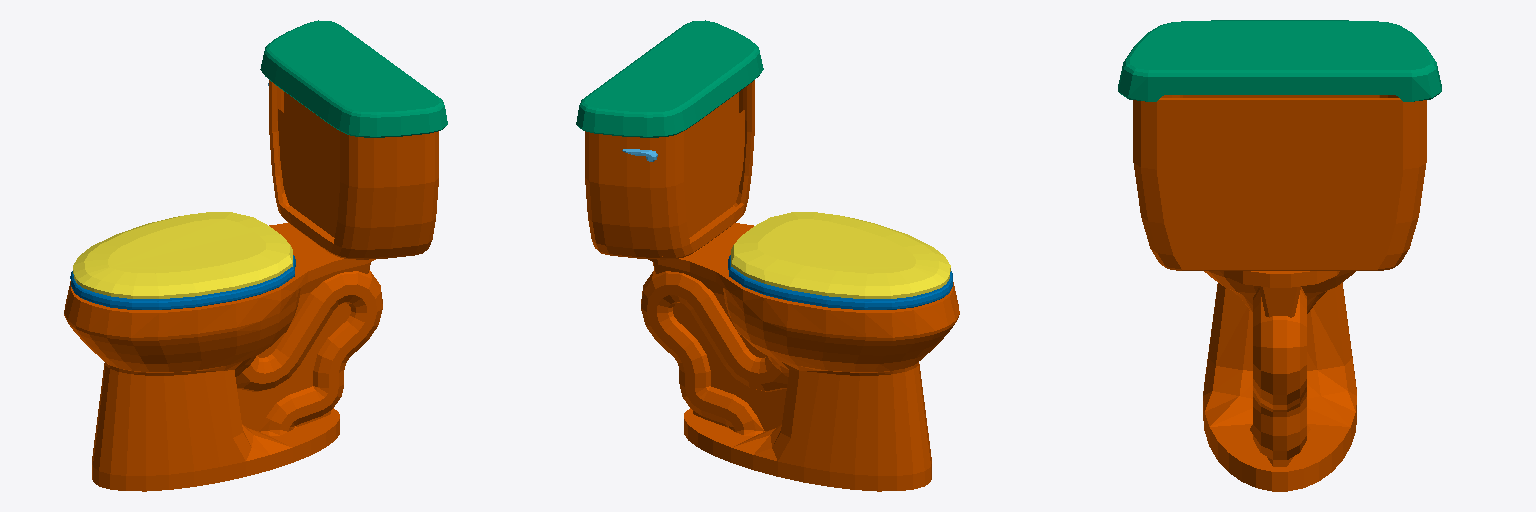
robot.urdf — partnet_db252ecd6286a334733badcb2e574996-0:
<robot name="partnet_db252ecd6286a334733badcb2e574996-0">
	<link name="base" />
	<link name="link_0">
		<collision>
			<origin xyz="0.387179130380233 -0.5229989412652956 0.2586584187924479" />
			<geometry>
				<mesh filename="new_objs/102697_link_0_2.obj" />
			</geometry>
		</collision>
	<collision>
			<origin xyz="0.387179130380233 -0.5229989412652956 0.2586584187924479" />
			<geometry>
				<mesh filename="new_objs/102697_link_0_0.obj" />
			</geometry>
		</collision>
	<collision>
			<origin xyz="0.387179130380233 -0.5229989412652956 0.2586584187924479" />
			<geometry>
				<mesh filename="new_objs/102697_link_0_1.obj" />
			</geometry>
		</collision>
	<visual name="button-part[&quot;id]">
			<origin xyz="0.387179130380233 -0.5229989412652956 0.2586584187924479" />
			<geometry>
				<mesh filename="textured_objs/original-8.obj" />
			</geometry>
		</visual>
		</link>
	<joint name="joint_0" type="revolute">
		<origin xyz="-0.387179130380233 0.5229989412652956 -0.2586584187924479" />
		<axis xyz="-0.91844856752952 -6.467369864908537e-05 0.39554042096893877" />
		<child link="link_0" />
		<parent link="link_4" />
		<limit lower="0.0" upper="0.5235987755982988" />
	</joint>
	<link name="link_1">
		<collision>
			<origin xyz="0 0 0" />
			<geometry>
				<mesh filename="new_objs/102697_link_1_6.obj" />
			</geometry>
		</collision>
		<collision>
			<origin xyz="0 0 0" />
			<geometry>
				<mesh filename="new_objs/102697_link_1_14.obj" />
			</geometry>
		</collision>
		<collision>
			<origin xyz="0 0 0" />
			<geometry>
				<mesh filename="new_objs/102697_link_1_11.obj" />
			</geometry>
		</collision>
		<collision>
			<origin xyz="0 0 0" />
			<geometry>
				<mesh filename="new_objs/102697_link_1_4.obj" />
			</geometry>
		</collision>
		<collision>
			<origin xyz="0 0 0" />
			<geometry>
				<mesh filename="new_objs/102697_link_1_8.obj" />
			</geometry>
		</collision>
		<collision>
			<origin xyz="0 0 0" />
			<geometry>
				<mesh filename="new_objs/102697_link_1_3.obj" />
			</geometry>
		</collision>
		<collision>
			<origin xyz="0 0 0" />
			<geometry>
				<mesh filename="new_objs/102697_link_1_1.obj" />
			</geometry>
		</collision>
		<collision>
			<origin xyz="0 0 0" />
			<geometry>
				<mesh filename="new_objs/102697_link_1_12.obj" />
			</geometry>
		</collision>
		<collision>
			<origin xyz="0 0 0" />
			<geometry>
				<mesh filename="new_objs/102697_link_1_5.obj" />
			</geometry>
		</collision>
		<collision>
			<origin xyz="0 0 0" />
			<geometry>
				<mesh filename="new_objs/102697_link_1_13.obj" />
			</geometry>
		</collision>
		<collision>
			<origin xyz="0 0 0" />
			<geometry>
				<mesh filename="new_objs/102697_link_1_0.obj" />
			</geometry>
		</collision>
		<collision>
			<origin xyz="0 0 0" />
			<geometry>
				<mesh filename="new_objs/102697_link_1_10.obj" />
			</geometry>
		</collision>
		<collision>
			<origin xyz="0 0 0" />
			<geometry>
				<mesh filename="new_objs/102697_link_1_2.obj" />
			</geometry>
		</collision>
		<collision>
			<origin xyz="0 0 0" />
			<geometry>
				<mesh filename="new_objs/102697_link_1_9.obj" />
			</geometry>
		</collision>
		<collision>
			<origin xyz="0 0 0" />
			<geometry>
				<mesh filename="new_objs/102697_link_1_7.obj" />
			</geometry>
		</collision>
		<visual name="lid-part[&quot;id]">
			<origin xyz="0 0 0" />
			<geometry>
				<mesh filename="textured_objs/original-4.obj" />
			</geometry>
		</visual>
		<visual name="lid-part[&quot;id]">
			<origin xyz="0 0 0" />
			<geometry>
				<mesh filename="textured_objs/original-3.obj" />
			</geometry>
		</visual>
		</link>
	<joint name="joint_1" type="prismatic">
		<origin xyz="0 0 0" />
		<axis xyz="0 1 0" />
		<child link="link_1" />
		<parent link="link_4" />
		<limit lower="0" upper="0.02" />
	</joint>
	<link name="link_2">
		<collision>
			<origin xyz="0 -0.05794601786221419 0.06205458525801076" />
			<geometry>
				<mesh filename="new_objs/102697_link_2_0.obj" />
			</geometry>
		</collision>
		<visual name="lid-part[&quot;id]">
			<origin xyz="0 -0.05794601786221419 0.06205458525801076" />
			<geometry>
				<mesh filename="textured_objs/original-21.obj" />
			</geometry>
		</visual>
		<visual name="lid-part[&quot;id]">
			<origin xyz="0 -0.05794601786221419 0.06205458525801076" />
			<geometry>
				<mesh filename="textured_objs/original-20.obj" />
			</geometry>
		</visual>
		</link>
	<joint name="joint_2" type="revolute">
		<origin xyz="0 0.05794601786221419 -0.06205458525801076" />
		<axis xyz="-1 0 0" />
		<child link="link_2" />
		<parent link="link_4" />
		<limit lower="-0.0" upper="1.6406094968746698" />
	</joint>
	<link name="link_3">
		<collision>
			<origin xyz="0 -0.05794601786221419 0.06205458525801076" />
			<geometry>
				<mesh filename="new_objs/102697_link_3_2.obj" />
			</geometry>
		</collision>
		<collision>
			<origin xyz="0 -0.05794601786221419 0.06205458525801076" />
			<geometry>
				<mesh filename="new_objs/102697_link_3_6.obj" />
			</geometry>
		</collision>
		<collision>
			<origin xyz="0 -0.05794601786221419 0.06205458525801076" />
			<geometry>
				<mesh filename="new_objs/102697_link_3_1.obj" />
			</geometry>
		</collision>
		<collision>
			<origin xyz="0 -0.05794601786221419 0.06205458525801076" />
			<geometry>
				<mesh filename="new_objs/102697_link_3_0.obj" />
			</geometry>
		</collision>
		<collision>
			<origin xyz="0 -0.05794601786221419 0.06205458525801076" />
			<geometry>
				<mesh filename="new_objs/102697_link_3_4.obj" />
			</geometry>
		</collision>
		<collision>
			<origin xyz="0 -0.05794601786221419 0.06205458525801076" />
			<geometry>
				<mesh filename="new_objs/102697_link_3_5.obj" />
			</geometry>
		</collision>
		<collision>
			<origin xyz="0 -0.05794601786221419 0.06205458525801076" />
			<geometry>
				<mesh filename="new_objs/102697_link_3_7.obj" />
			</geometry>
		</collision>
		<collision>
			<origin xyz="0 -0.05794601786221419 0.06205458525801076" />
			<geometry>
				<mesh filename="new_objs/102697_link_3_3.obj" />
			</geometry>
		</collision>
		<visual name="seat-part[&quot;id]">
			<origin xyz="0 -0.05794601786221419 0.06205458525801076" />
			<geometry>
				<mesh filename="textured_objs/original-18.obj" />
			</geometry>
		</visual>
		<visual name="seat-part[&quot;id]">
			<origin xyz="0 -0.05794601786221419 0.06205458525801076" />
			<geometry>
				<mesh filename="textured_objs/original-17.obj" />
			</geometry>
		</visual>
		</link>
	<joint name="joint_3" type="revolute">
		<origin xyz="0 0.05794601786221419 -0.06205458525801076" />
		<axis xyz="-1 0 0" />
		<child link="link_3" />
		<parent link="link_4" />
		<limit lower="-0.0" upper="1.6406094968746698" />
	</joint>
	<link name="link_4">
		<collision>
			<origin xyz="0 0 0" />
			<geometry>
				<mesh filename="new_objs/102697_link_4_0.obj" />
			</geometry>
		</collision>
		<collision>
			<origin xyz="0 0 0" />
			<geometry>
				<mesh filename="new_objs/102697_link_4_18.obj" />
			</geometry>
		</collision>
		<collision>
			<origin xyz="0 0 0" />
			<geometry>
				<mesh filename="new_objs/102697_link_4_22.obj" />
			</geometry>
		</collision>
		<collision>
			<origin xyz="0 0 0" />
			<geometry>
				<mesh filename="new_objs/102697_link_4_12.obj" />
			</geometry>
		</collision>
		<collision>
			<origin xyz="0 0 0" />
			<geometry>
				<mesh filename="new_objs/102697_link_4_27.obj" />
			</geometry>
		</collision>
		<collision>
			<origin xyz="0 0 0" />
			<geometry>
				<mesh filename="new_objs/102697_link_4_23.obj" />
			</geometry>
		</collision>
		<collision>
			<origin xyz="0 0 0" />
			<geometry>
				<mesh filename="new_objs/102697_link_4_33.obj" />
			</geometry>
		</collision>
		<collision>
			<origin xyz="0 0 0" />
			<geometry>
				<mesh filename="new_objs/102697_link_4_2.obj" />
			</geometry>
		</collision>
		<collision>
			<origin xyz="0 0 0" />
			<geometry>
				<mesh filename="new_objs/102697_link_4_13.obj" />
			</geometry>
		</collision>
		<collision>
			<origin xyz="0 0 0" />
			<geometry>
				<mesh filename="new_objs/102697_link_4_28.obj" />
			</geometry>
		</collision>
		<collision>
			<origin xyz="0 0 0" />
			<geometry>
				<mesh filename="new_objs/102697_link_4_34.obj" />
			</geometry>
		</collision>
		<collision>
			<origin xyz="0 0 0" />
			<geometry>
				<mesh filename="new_objs/102697_link_4_7.obj" />
			</geometry>
		</collision>
		<collision>
			<origin xyz="0 0 0" />
			<geometry>
				<mesh filename="new_objs/102697_link_4_1.obj" />
			</geometry>
		</collision>
		<collision>
			<origin xyz="0 0 0" />
			<geometry>
				<mesh filename="new_objs/102697_link_4_10.obj" />
			</geometry>
		</collision>
		<collision>
			<origin xyz="0 0 0" />
			<geometry>
				<mesh filename="new_objs/102697_link_4_6.obj" />
			</geometry>
		</collision>
		<collision>
			<origin xyz="0 0 0" />
			<geometry>
				<mesh filename="new_objs/102697_link_4_19.obj" />
			</geometry>
		</collision>
		<collision>
			<origin xyz="0 0 0" />
			<geometry>
				<mesh filename="new_objs/102697_link_4_3.obj" />
			</geometry>
		</collision>
		<collision>
			<origin xyz="0 0 0" />
			<geometry>
				<mesh filename="new_objs/102697_link_4_26.obj" />
			</geometry>
		</collision>
		<collision>
			<origin xyz="0 0 0" />
			<geometry>
				<mesh filename="new_objs/102697_link_4_8.obj" />
			</geometry>
		</collision>
		<collision>
			<origin xyz="0 0 0" />
			<geometry>
				<mesh filename="new_objs/102697_link_4_25.obj" />
			</geometry>
		</collision>
		<collision>
			<origin xyz="0 0 0" />
			<geometry>
				<mesh filename="new_objs/102697_link_4_11.obj" />
			</geometry>
		</collision>
		<collision>
			<origin xyz="0 0 0" />
			<geometry>
				<mesh filename="new_objs/102697_link_4_21.obj" />
			</geometry>
		</collision>
		<collision>
			<origin xyz="0 0 0" />
			<geometry>
				<mesh filename="new_objs/102697_link_4_9.obj" />
			</geometry>
		</collision>
		<collision>
			<origin xyz="0 0 0" />
			<geometry>
				<mesh filename="new_objs/102697_link_4_17.obj" />
			</geometry>
		</collision>
		<collision>
			<origin xyz="0 0 0" />
			<geometry>
				<mesh filename="new_objs/102697_link_4_30.obj" />
			</geometry>
		</collision>
		<collision>
			<origin xyz="0 0 0" />
			<geometry>
				<mesh filename="new_objs/102697_link_4_16.obj" />
			</geometry>
		</collision>
		<collision>
			<origin xyz="0 0 0" />
			<geometry>
				<mesh filename="new_objs/102697_link_4_31.obj" />
			</geometry>
		</collision>
		<collision>
			<origin xyz="0 0 0" />
			<geometry>
				<mesh filename="new_objs/102697_link_4_20.obj" />
			</geometry>
		</collision>
		<collision>
			<origin xyz="0 0 0" />
			<geometry>
				<mesh filename="new_objs/102697_link_4_5.obj" />
			</geometry>
		</collision>
		<collision>
			<origin xyz="0 0 0" />
			<geometry>
				<mesh filename="new_objs/102697_link_4_29.obj" />
			</geometry>
		</collision>
		<collision>
			<origin xyz="0 0 0" />
			<geometry>
				<mesh filename="new_objs/102697_link_4_15.obj" />
			</geometry>
		</collision>
		<collision>
			<origin xyz="0 0 0" />
			<geometry>
				<mesh filename="new_objs/102697_link_4_4.obj" />
			</geometry>
		</collision>
		<collision>
			<origin xyz="0 0 0" />
			<geometry>
				<mesh filename="new_objs/102697_link_4_24.obj" />
			</geometry>
		</collision>
		<collision>
			<origin xyz="0 0 0" />
			<geometry>
				<mesh filename="new_objs/102697_link_4_32.obj" />
			</geometry>
		</collision>
		<collision>
			<origin xyz="0 0 0" />
			<geometry>
				<mesh filename="new_objs/102697_link_4_14.obj" />
			</geometry>
		</collision>
		<visual name="base_body-part[&quot;id]">
			<origin xyz="0 0 0" />
			<geometry>
				<mesh filename="textured_objs/original-13.obj" />
			</geometry>
		</visual>
		<visual name="base_body-part[&quot;id]">
			<origin xyz="0 0 0" />
			<geometry>
				<mesh filename="textured_objs/original-6.obj" />
			</geometry>
		</visual>
		<visual name="base_body-part[&quot;id]">
			<origin xyz="0 0 0" />
			<geometry>
				<mesh filename="textured_objs/original-15.obj" />
			</geometry>
		</visual>
		<visual name="base_body-part[&quot;id]">
			<origin xyz="0 0 0" />
			<geometry>
				<mesh filename="textured_objs/original-11.obj" />
			</geometry>
		</visual>
		<visual name="base_body-part[&quot;id]">
			<origin xyz="0 0 0" />
			<geometry>
				<mesh filename="textured_objs/original-7.obj" />
			</geometry>
		</visual>
		<visual name="base_body-part[&quot;id]">
			<origin xyz="0 0 0" />
			<geometry>
				<mesh filename="textured_objs/original-10.obj" />
			</geometry>
		</visual>
		<visual name="base_body-part[&quot;id]">
			<origin xyz="0 0 0" />
			<geometry>
				<mesh filename="textured_objs/original-14.obj" />
			</geometry>
		</visual>
		</link>
	<joint name="joint_4" type="fixed">
		<origin rpy="1.570796326794897 0 -1.570796326794897" xyz="0 0 0" />
		<child link="link_4" />
		<parent link="base" />
	</joint>
</robot>

--- Render facts (derived) ---
The picture shows the robot from 3 angles, left to right: view 1: azimuth 30°, elevation 25°; view 2: azimuth 150°, elevation 25°; view 3: azimuth 270°, elevation 25°; orthographic projection.
Robot: partnet_db252ecd6286a334733badcb2e574996-0 — 6 links, 5 joints (3 revolute, 1 prismatic, 1 fixed); root link base; default pose: all joints at 0.
Links seen in each view (by area): view 1: link_4, link_2, link_1, link_3; view 2: link_4, link_2, link_1, link_3; view 3: link_4, link_1.
Link boxes in pixels (<box>): link_4: <box>64,80,438,491</box>; link_2: <box>73,212,292,298</box>; link_1: <box>260,20,447,137</box>; link_3: <box>70,255,295,309</box>; link_4: <box>585,80,959,491</box>; link_2: <box>731,212,950,298</box>; link_1: <box>576,20,763,137</box>; link_3: <box>728,255,952,309</box>; link_4: <box>1133,95,1426,491</box>; link_1: <box>1118,20,1441,101</box>.
Bounding box of the posed robot: 1.38 × 0.9387 × 1.45 m (x, y, z).
14 mesh visuals loaded from 14 distinct referenced files (14 OBJ).
